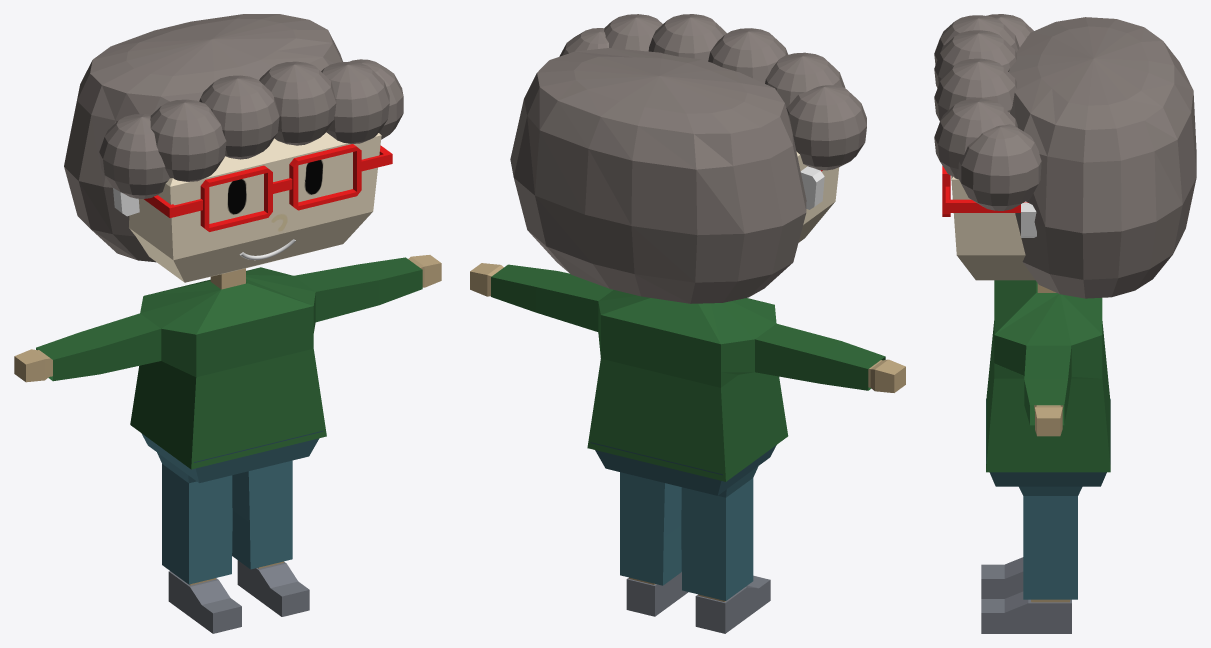
Rendered from Lavanda.fbx.
3 renders of one model, left to right at view 1: azimuth 30°, elevation 25°; view 2: azimuth 150°, elevation 25°; view 3: azimuth 270°, elevation 25°, orthographic. The views are drawn at different scales.
Parts seen in each view (by area): view 1: sueterLavanda002, cabezaMesh003, Sphere021, pantalonAzalea003, zapatosAzalea003, Sphere017, Sphere018, Sphere016, Sphere019, Sphere015, lente006, lente005 (+2 smaller); view 2: Sphere021, sueterLavanda002, pantalonAzalea003, Sphere019, zapatosAzalea003, cabezaMesh003, Sphere018, Sphere016, Sphere017, Sphere015, Sphere020, Box016; view 3: Sphere021, sueterLavanda002, pantalonAzalea003, cabezaMesh003, Sphere020, zapatosAzalea003, Sphere015, Sphere016, Sphere018, Sphere017, Box018, Sphere019 (+1 smaller).
Part boxes in pixels (x1,y1,x2,y2): sueterLavanda002: (36, 257, 422, 469); cabezaMesh003: (14, 132, 441, 585); Sphere021: (64, 14, 342, 262); pantalonAzalea003: (141, 430, 323, 584); zapatosAzalea003: (168, 560, 309, 633); Sphere017: (150, 99, 226, 181); Sphere018: (199, 75, 279, 159); Sphere016: (259, 61, 336, 145); Sphere019: (99, 114, 169, 198); Sphere015: (321, 61, 389, 143); lente006: (289, 144, 361, 210); lente005: (200, 165, 272, 231); Sphere021: (510, 48, 806, 303); sueterLavanda002: (491, 264, 885, 481); pantalonAzalea003: (590, 442, 776, 600); Sphere019: (786, 85, 866, 170); zapatosAzalea003: (626, 572, 770, 633); cabezaMesh003: (470, 151, 905, 601); Sphere018: (708, 28, 788, 83); Sphere016: (648, 14, 726, 61); Sphere017: (765, 52, 845, 107); Sphere015: (604, 14, 662, 51); Sphere020: (559, 28, 608, 56); Box016: (800, 166, 824, 209); Sphere021: (1008, 17, 1196, 298); sueterLavanda002: (986, 280, 1110, 472); pantalonAzalea003: (986, 399, 1110, 599); cabezaMesh003: (951, 176, 1070, 602); Sphere020: (957, 124, 1041, 210); zapatosAzalea003: (981, 557, 1071, 633); Sphere015: (934, 98, 1017, 179); Sphere016: (934, 58, 1016, 120); Sphere018: (934, 30, 1016, 87); Sphere017: (934, 15, 1019, 64); Box018: (945, 186, 1028, 212); Sphere019: (986, 14, 1033, 47).
Size of the model in its own units: 115 by 146 by 61.7.
Materials: 8 (1 with a texture image).
